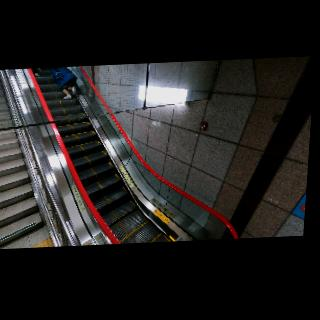anomaly: (48, 67, 78, 103)
